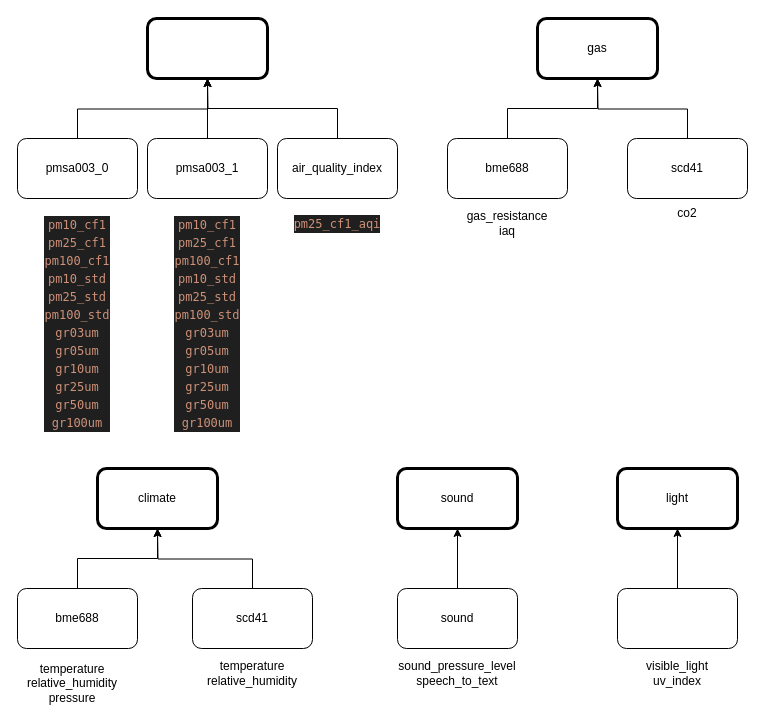
This 765x726 diagram has some shape labels left out. The shapes that lost their labels are listed below. From the top down, each one's box as (x1, y1, x2, y2) in pixels, then its label:
(146, 16, 268, 80): dust
(616, 588, 738, 648): ltr390
